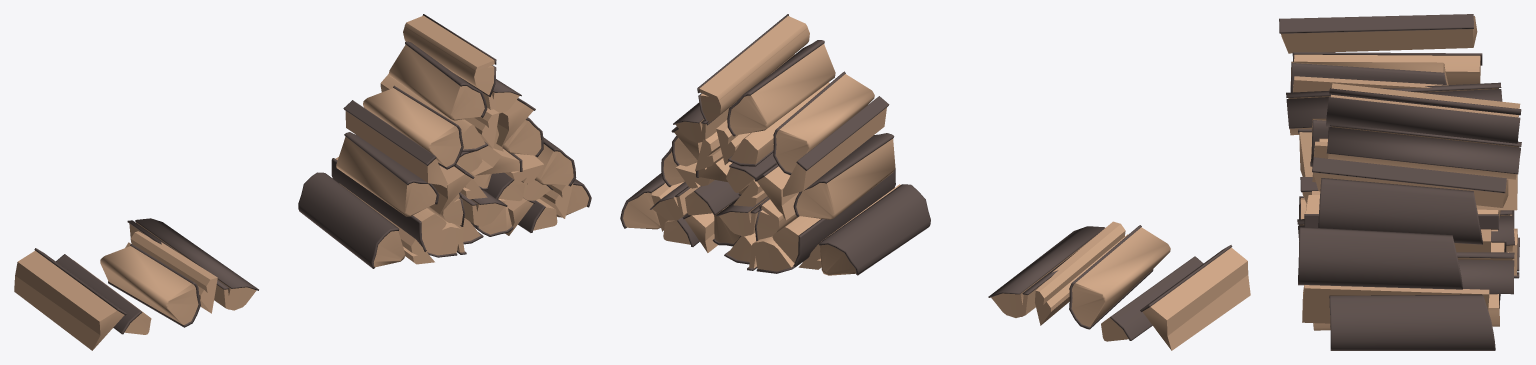
Rendered from firewood.fbx.
3 views of the same model, side by side, from view 1: azimuth 30°, elevation 25°; view 2: azimuth 150°, elevation 25°; view 3: azimuth 270°, elevation 25° (orthographic). The views are drawn at different scales.
Parts seen in each view (by area): view 1: Cube.043, Cube.010, Cube.040, Cube.037, Cube.035, Cube.030, Cube.038, Cube.039, Cube.044, Cube.022, Cube.041, Cube.042 (+19 smaller); view 2: Cube.043, Cube.010, Cube.040, Cube.035, Cube.038, Cube.030, Cube.037, Cube.039, Cube.044, Cube.041, Cube.022, Cube.042 (+20 smaller); view 3: Cube.026, Cube, Cube.033, Cube.038, Cube.031, Cube.043, Cube.029, Cube.040, Cube.042, Cube.044, Cube.002, Cube.018 (+13 smaller).
Part boxes in pixels (x1,y1,x2,y2): Cube.043: (14,248,126,350); Cube.010: (298,172,405,268); Cube.040: (100,244,200,327); Cube.037: (336,132,439,216); Cube.035: (388,41,487,120); Cube.030: (363,85,463,169); Cube.038: (403,14,496,96); Cube.039: (343,100,447,187); Cube.044: (127,218,258,310); Cube.022: (331,157,446,251); Cube.041: (125,231,217,313); Cube.042: (56,254,151,334); Cube.043: (1140,245,1250,350); Cube.010: (818,184,930,275); Cube.040: (1069,225,1170,329); Cube.035: (727,40,835,136); Cube.038: (697,14,809,125); Cube.030: (773,71,874,175); Cube.037: (793,133,895,219); Cube.039: (783,96,889,196); Cube.044: (988,226,1104,317); Cube.041: (1035,221,1128,325); Cube.022: (772,168,895,267); Cube.042: (1101,256,1203,341); Cube.026: (1298,227,1462,289); Cube: (1329,294,1495,350); Cube.033: (1318,178,1482,244); Cube.038: (1326,83,1521,143); Cube.031: (1326,123,1521,179); Cube.043: (1279,14,1477,53); Cube.029: (1312,157,1508,207); Cube.040: (1290,61,1448,92); Cube.042: (1292,52,1482,84); Cube.044: (1286,82,1502,135); Cube.002: (1302,285,1489,323); Cube.018: (1456,252,1514,294).
Size of the model in its own units: 229 by 76.45 by 76.63.
